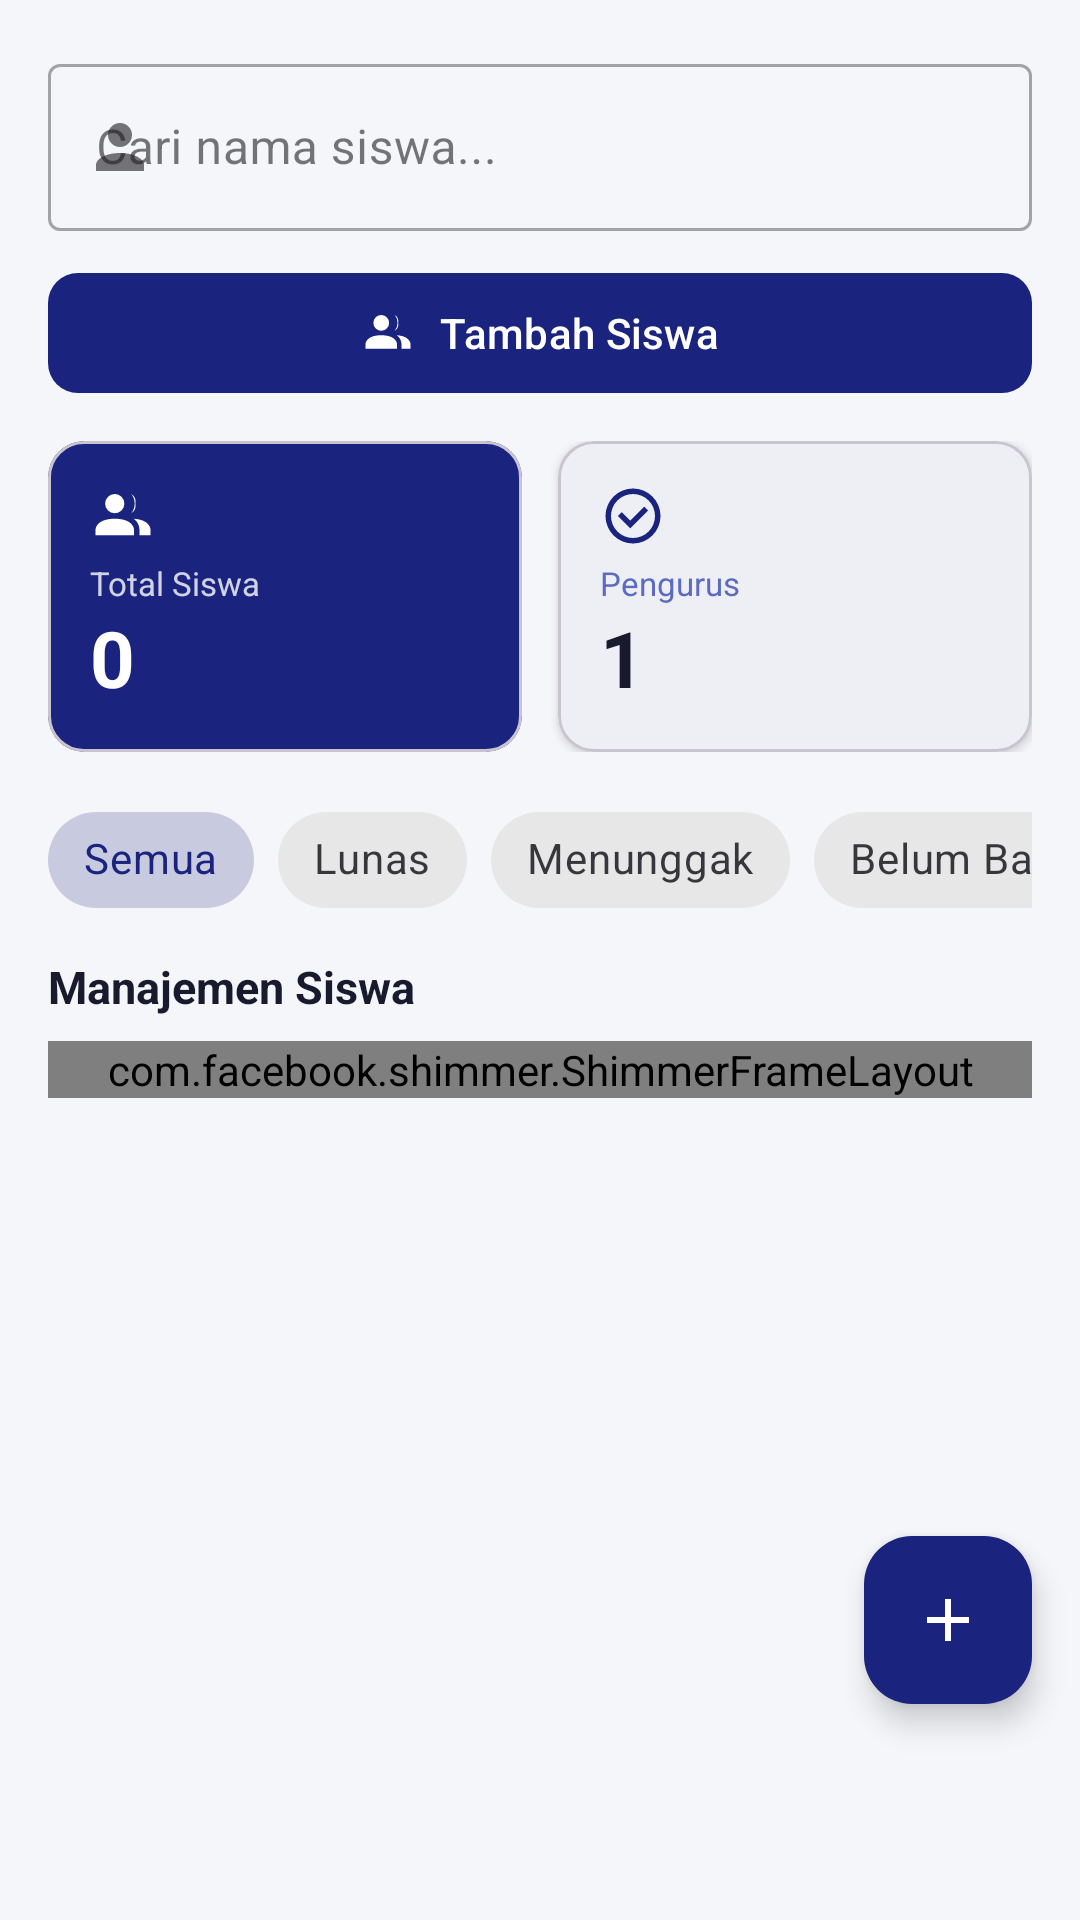

Named icons in this screenshot (1080×1920) and their centers, [x,y]:
add: [948,1620]
check circle: [633,516]
